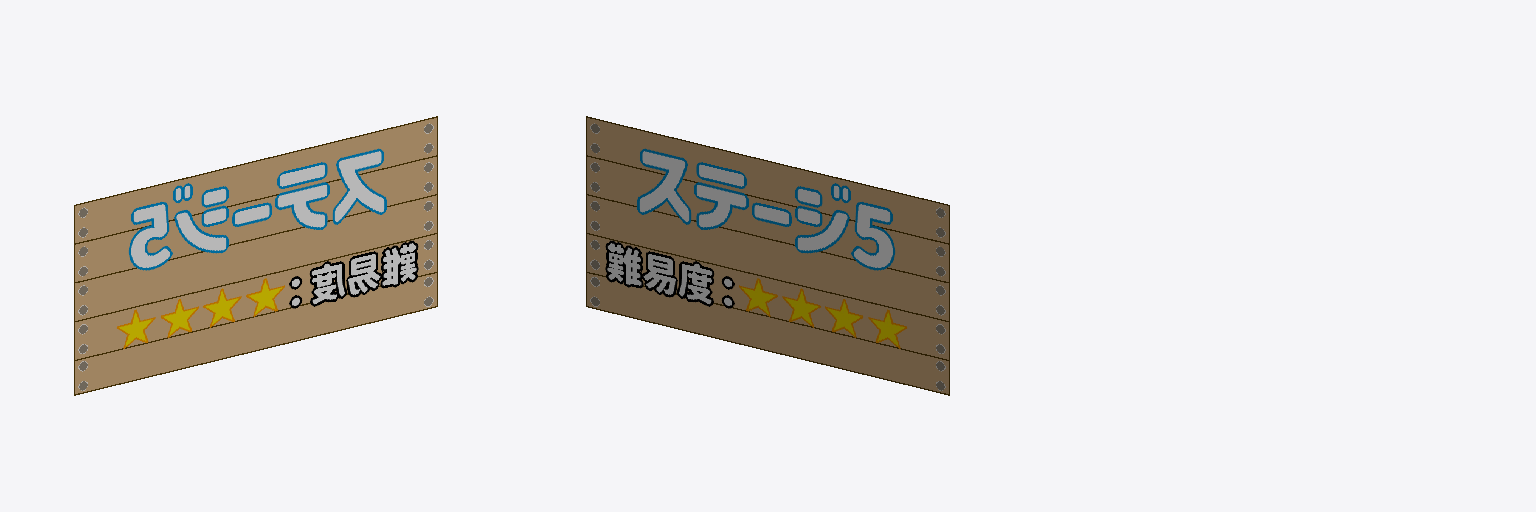
3 views of the same model, side by side, from view 1: azimuth 30°, elevation 25°; view 2: azimuth 150°, elevation 25°; view 3: azimuth 270°, elevation 25° (orthographic).
Parts seen in each view (by area): view 1: 平面; view 2: 平面; view 3: none.
Boxes of the visible parts, x1=… form: 平面: x1=74, y1=116, x2=437, y2=395; 平面: x1=586, y1=116, x2=949, y2=395.
Bounding box in the file's own units: 4 × 2 × 0.
Materials: 1 (1 with a texture image).